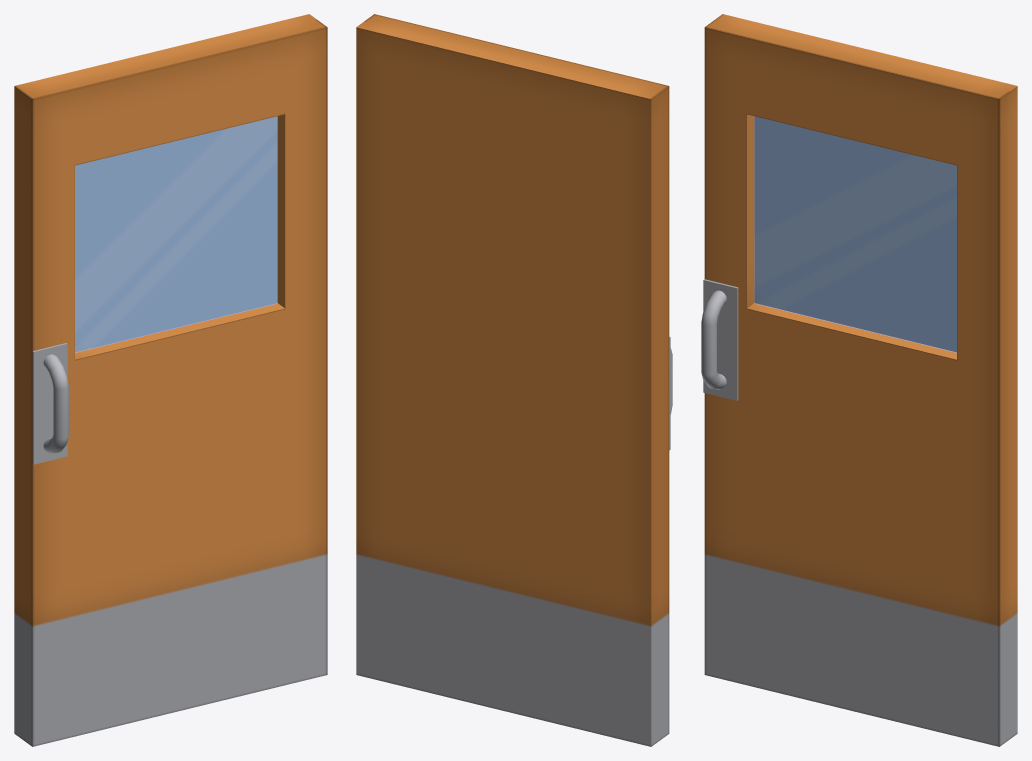
Rendered from R_Door_Asset.fbx.
The picture shows the model from 3 angles, left to right: view 1: azimuth 30°, elevation 25°; view 2: azimuth 150°, elevation 25°; view 3: azimuth 330°, elevation 25°; orthographic projection.
Parts seen in each view (by area): view 1: R_Door; view 2: R_Door; view 3: R_Door.
Part boxes in pixels (box(x1,y1,x2,y2)): R_Door: box(14, 14, 327, 746); R_Door: box(356, 14, 672, 746); R_Door: box(701, 14, 1017, 746).
Bounding box in the file's own units: 2.27 × 4.76 × 0.4546.
Materials: 1 (1 with a texture image).
